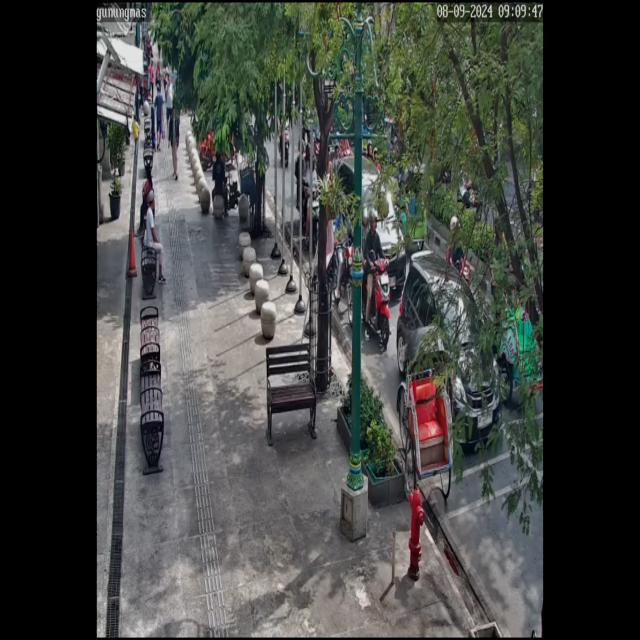Car: (392, 242, 495, 452), (331, 146, 406, 299)
Motorcycle: (359, 210, 395, 352), (327, 179, 358, 331), (273, 96, 292, 180)
